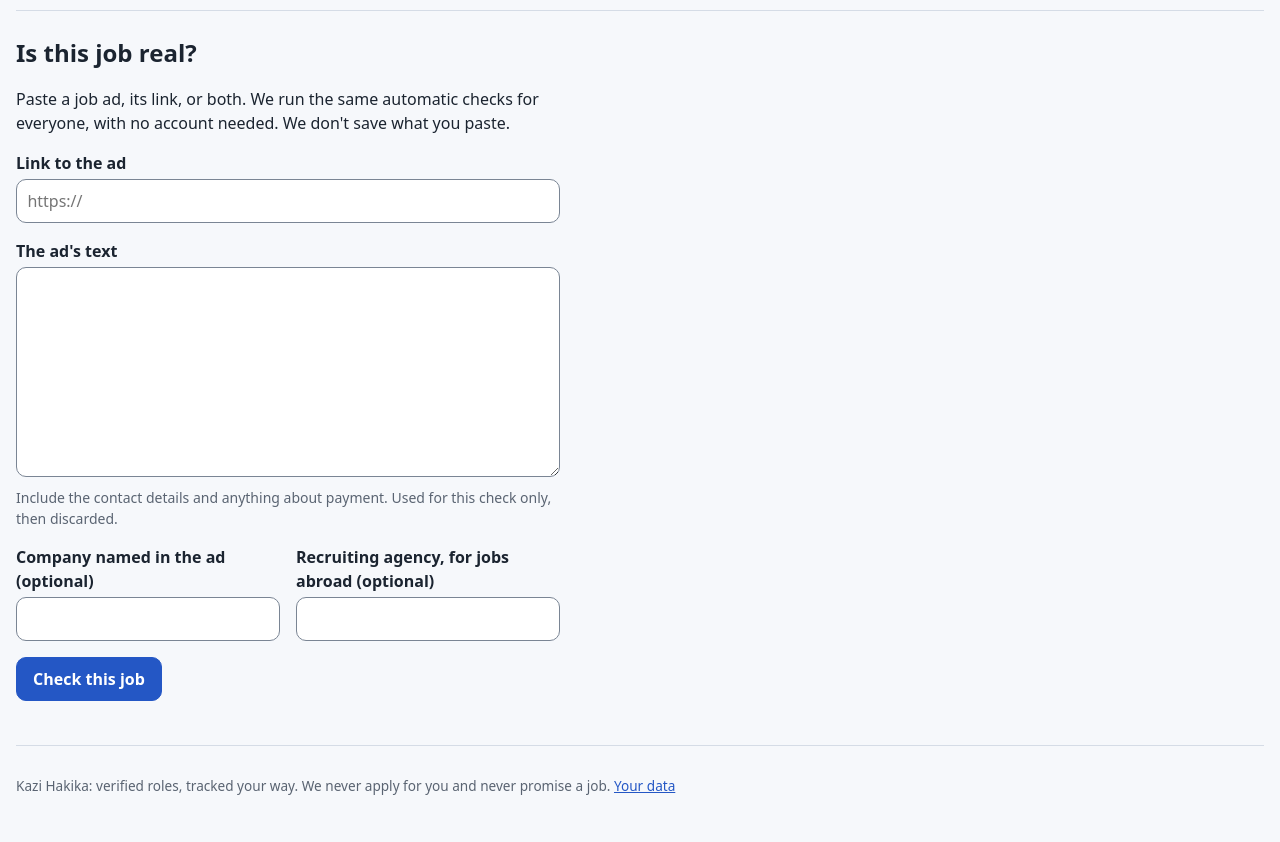
Test: Is this job real? › checks pasted text without an account and focuses the answer
In the text box labelled "The ad's text": x=288, y=372 [16,267,560,477], type "Pay a registration fee"
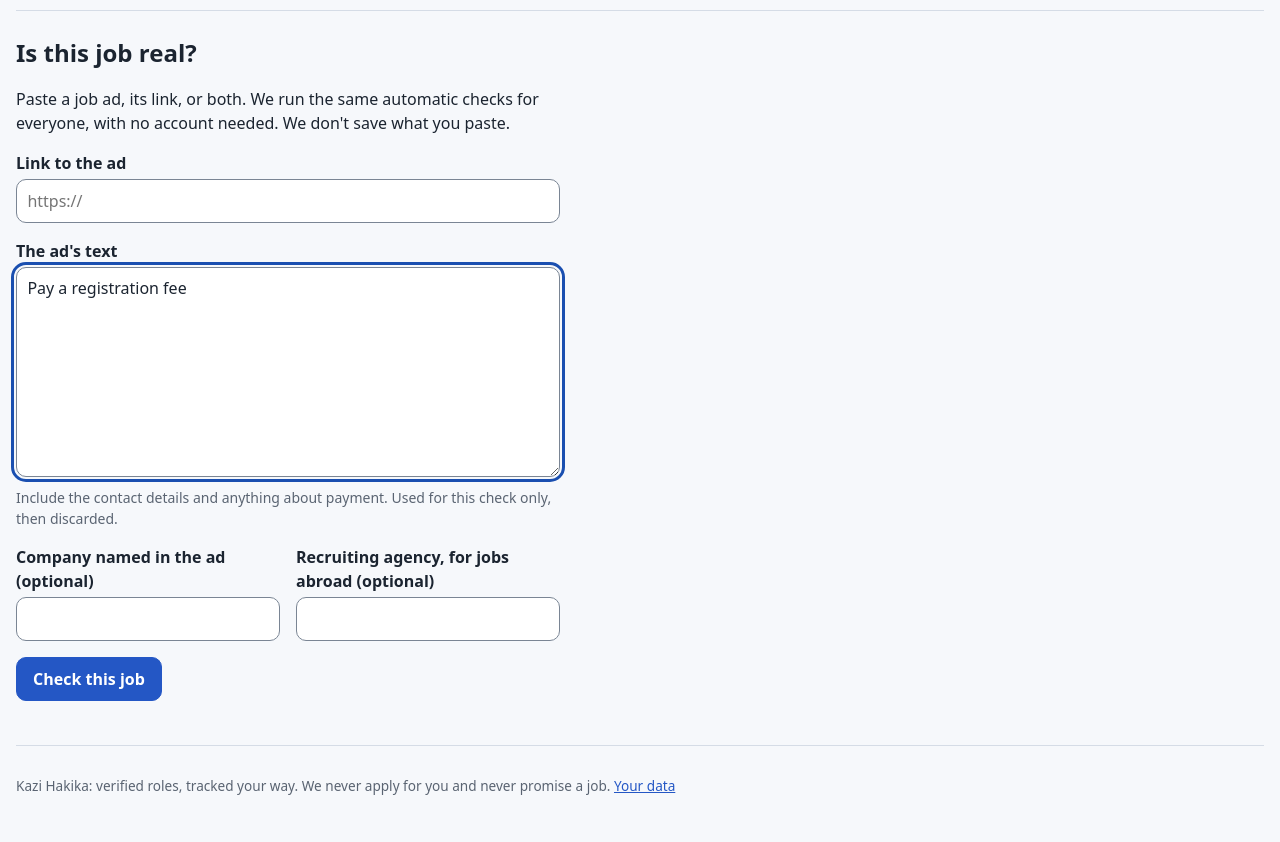
Click the button "Check this job": x=89, y=679 [16,657,162,701]
(page scrolled)
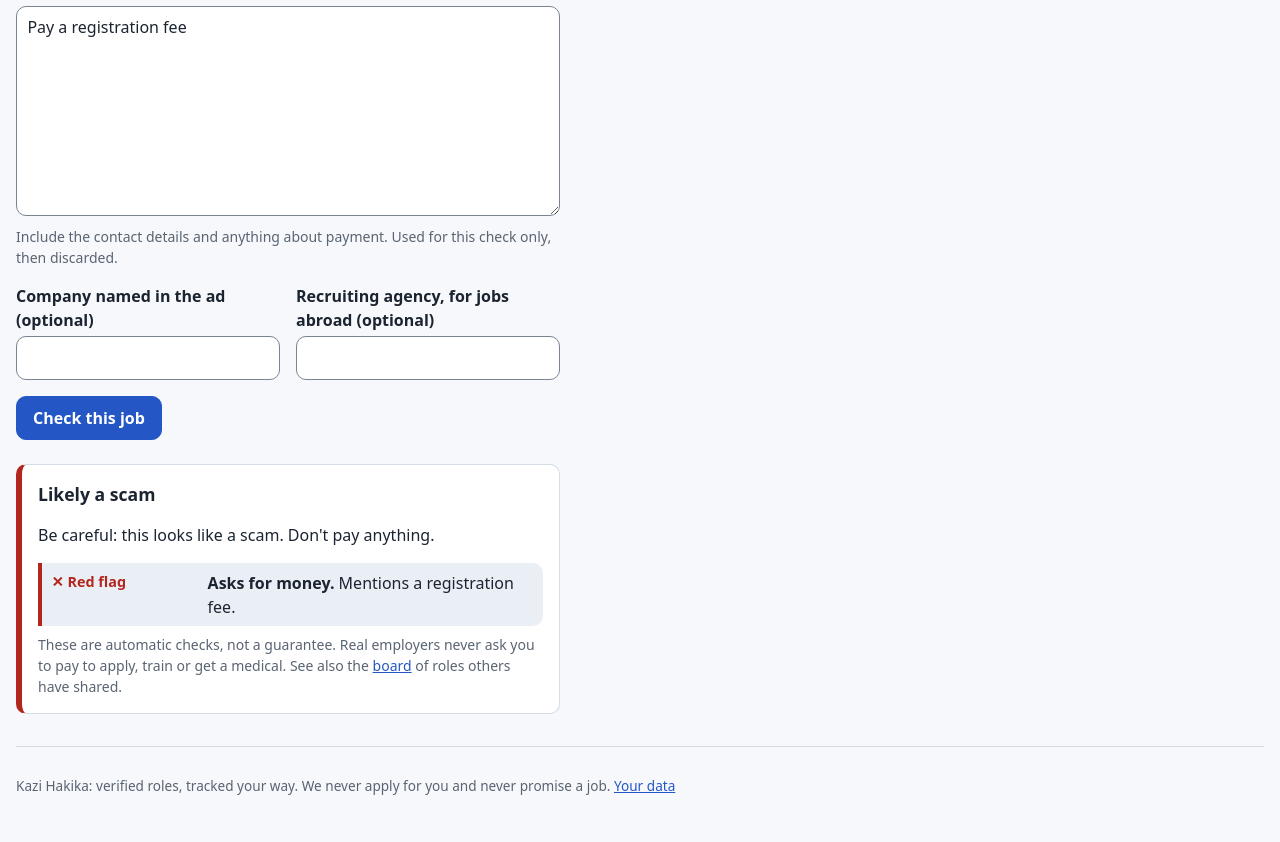
Expected: the text "Asks for money. Mentions a registration fee." is shown, [208,571,533,619]
